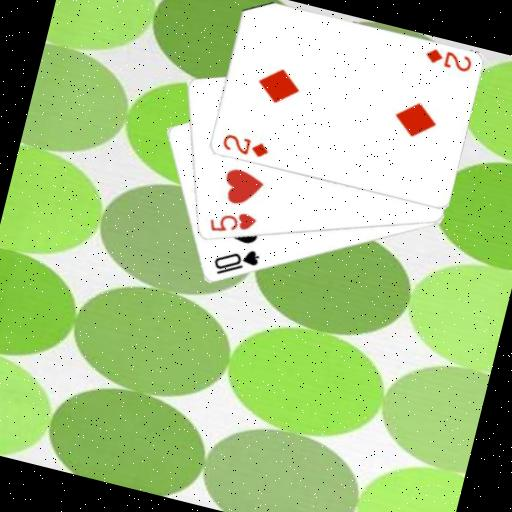10S: (208, 238, 263, 285)
2D: (218, 130, 272, 162), (421, 43, 475, 75)
5H: (204, 202, 260, 243)
